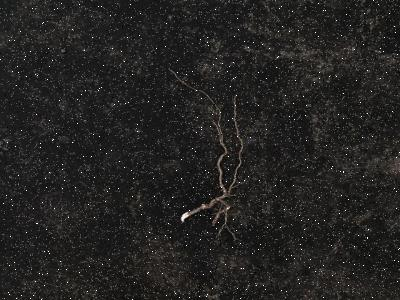Root: (169, 69, 243, 227)
